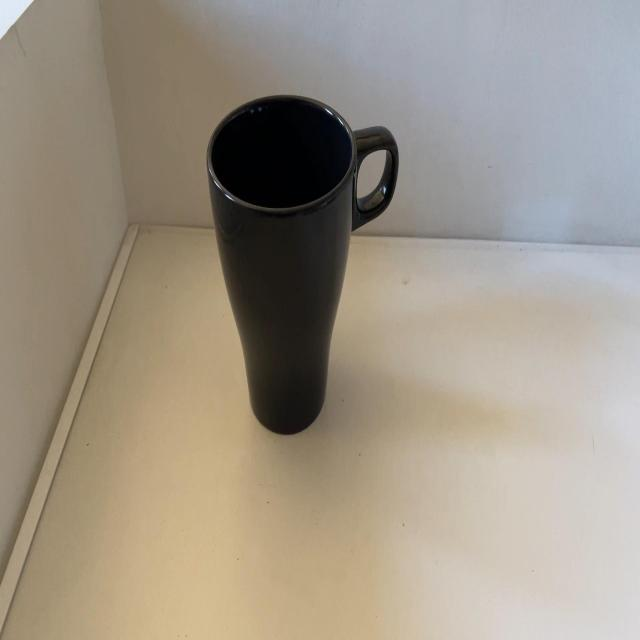cup: (197, 92, 398, 438)
